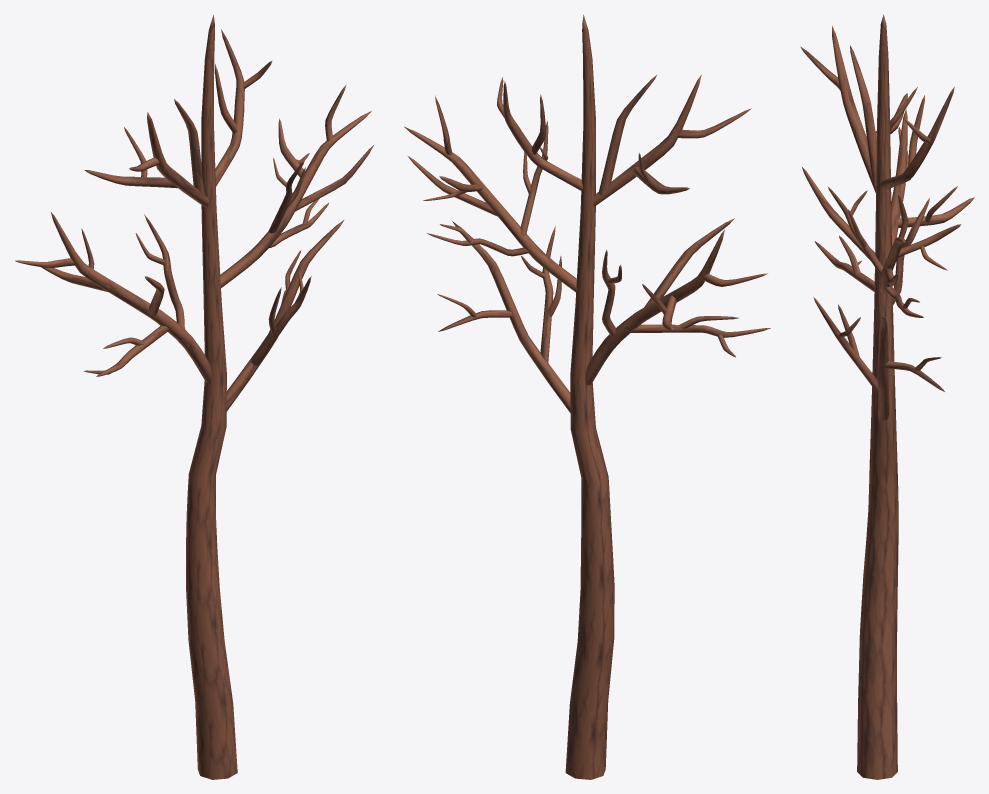
Rendered from DeadTree_1.glb.
The picture shows the model from 3 angles, left to right: view 1: azimuth 30°, elevation 25°; view 2: azimuth 150°, elevation 25°; view 3: azimuth 270°, elevation 25°; orthographic projection.
Parts seen in each view (by area): view 1: DeadTree_1; view 2: DeadTree_1; view 3: DeadTree_1.
Boxes of the visible parts, x1=… form: DeadTree_1: x1=15, y1=15, x2=373, y2=779; DeadTree_1: x1=404, y1=14, x2=770, y2=779; DeadTree_1: x1=800, y1=14, x2=974, y2=779.
Size of the model in its own units: 3.09 by 6.2 by 1.3.
Materials: 1 (1 with a texture image).
